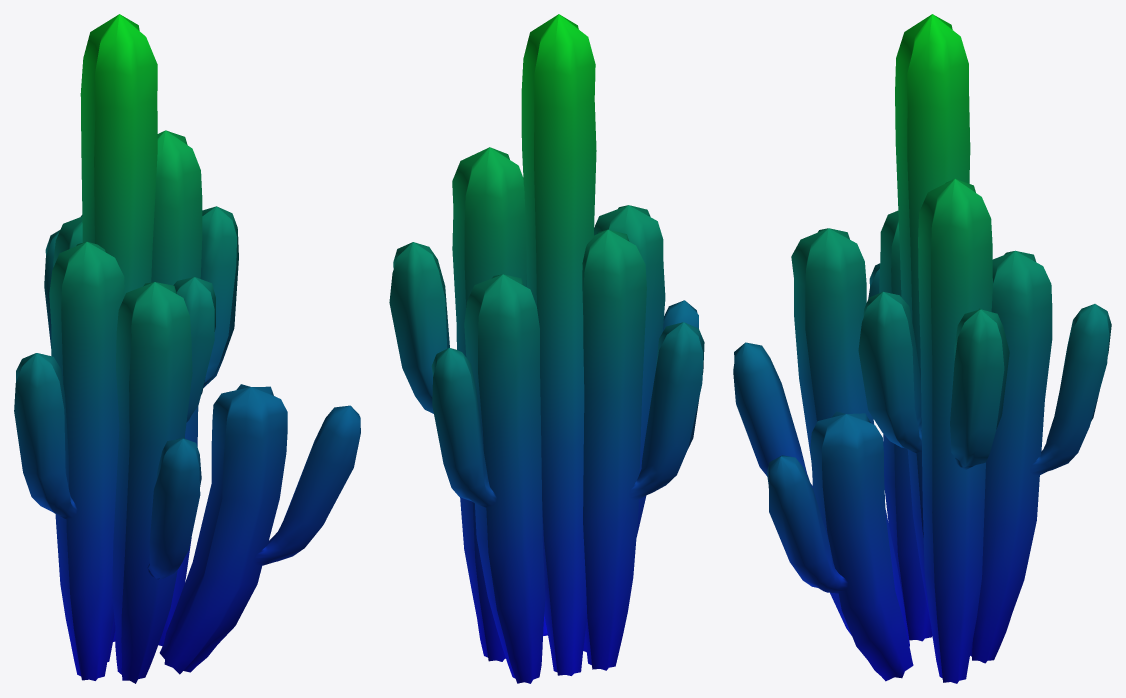
Rendered from Senita7.fbx.
3 renders of one model, left to right at view 1: azimuth 30°, elevation 25°; view 2: azimuth 150°, elevation 25°; view 3: azimuth 270°, elevation 25°, orthographic.
Parts seen in each view (by area): view 1: Senita7_LOD0; view 2: Senita7_LOD0; view 3: Senita7_LOD0.
Boxes of the visible parts, x1=… form: Senita7_LOD0: x1=14, y1=14, x2=360, y2=683; Senita7_LOD0: x1=389, y1=14, x2=704, y2=683; Senita7_LOD0: x1=733, y1=14, x2=1111, y2=683.
Size of what is drawn, in the model's own units: 127 by 273 by 145.
